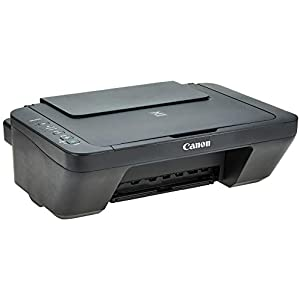printer: (1, 77, 300, 222)
